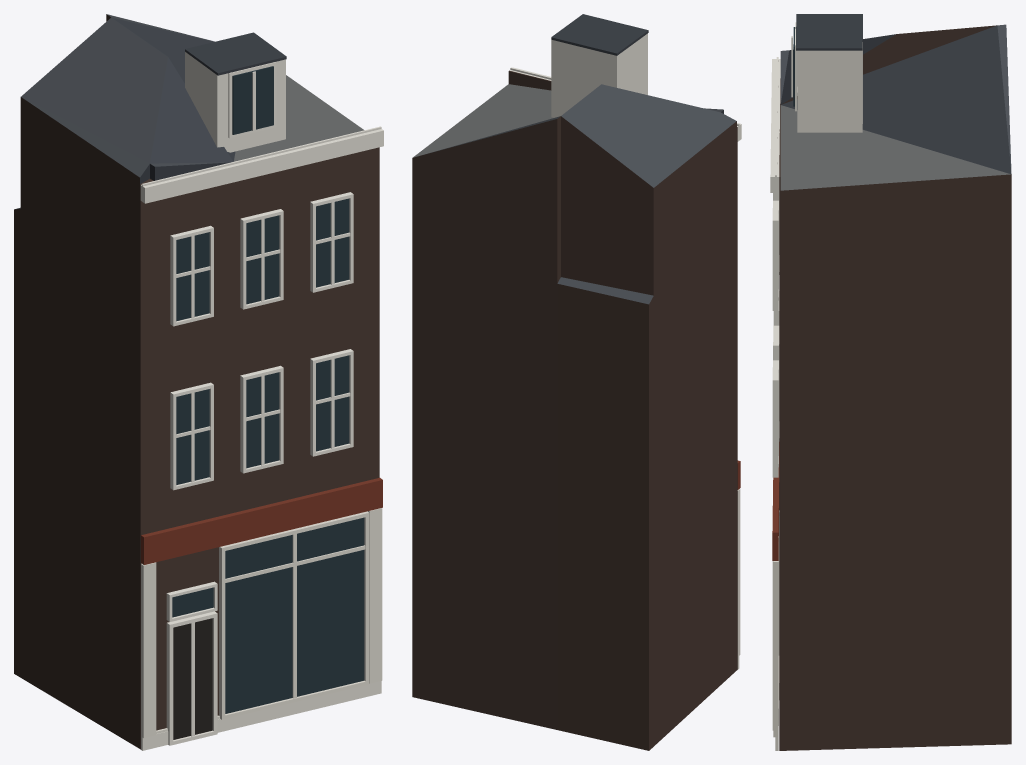
3 renders of one model, left to right at view 1: azimuth 30°, elevation 25°; view 2: azimuth 150°, elevation 25°; view 3: azimuth 270°, elevation 25°, orthographic. The views are drawn at different scales.
Visible parts, largest first — view 1: spec-0363100012178305; view 2: spec-0363100012178305; view 3: spec-0363100012178305.
Boxes of the visible parts, x1=… form: spec-0363100012178305: x1=14, y1=14, x2=383, y2=750; spec-0363100012178305: x1=412, y1=14, x2=741, y2=750; spec-0363100012178305: x1=770, y1=14, x2=1011, y2=750.
Bounding box in the file's own units: 5.97 × 14.51 × 4.8.
